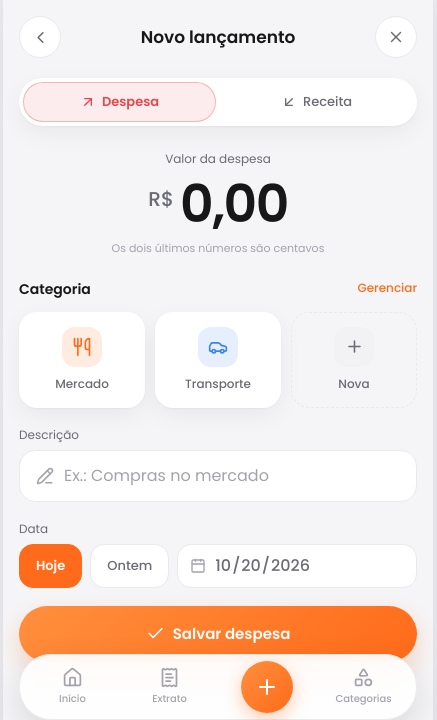
new transaction › keeps the draft and selects the new category after creating one
Type "4590" into the field named "Valor em reais" at x=234, y=204, box [180,174,288,234]
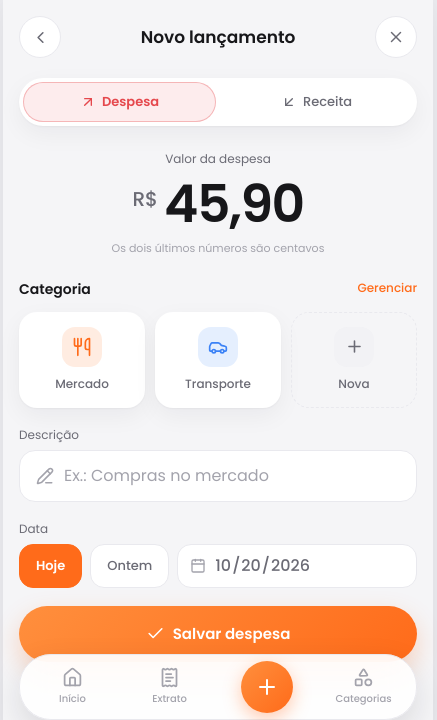
Type "Ração" into the field labelled "Descrição" at x=232, y=476, box [64,463,400,488]
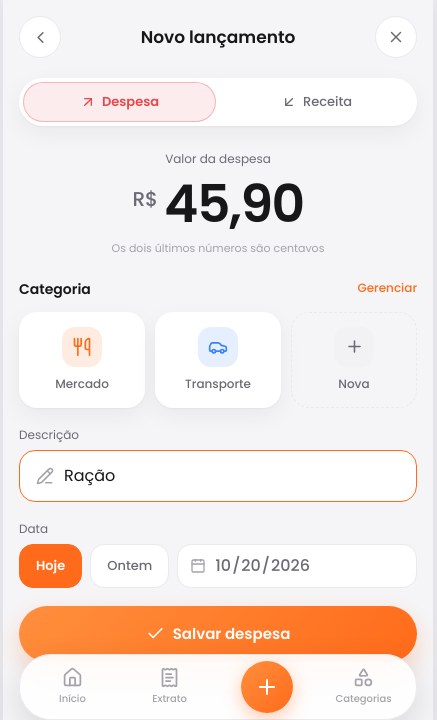
Click the link "Nova" at x=354, y=360, box [291,312,417,408]
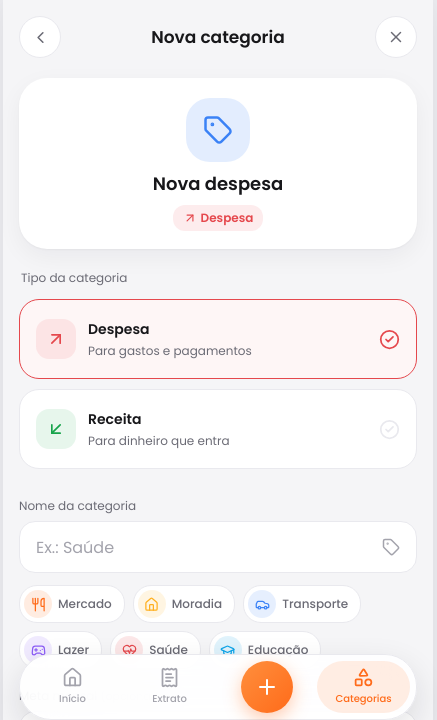
Type "Pets" into the field labelled "Nome da categoria" at x=204, y=547, box [36,534,372,560]
(page scrolled)
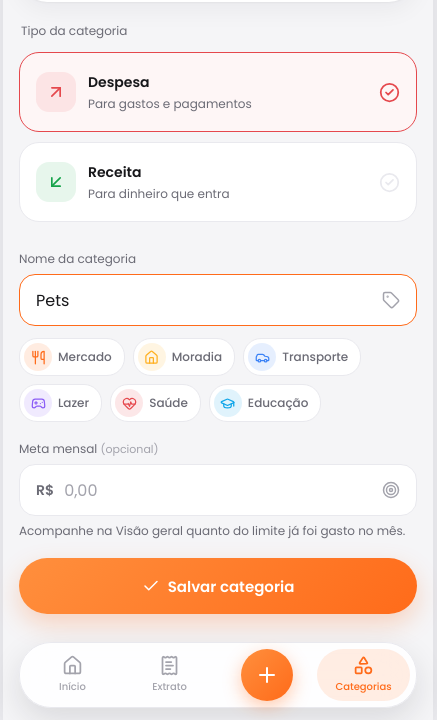
Click the button "Salvar categoria" at x=218, y=586, box [19,558,417,614]
(page scrolled)
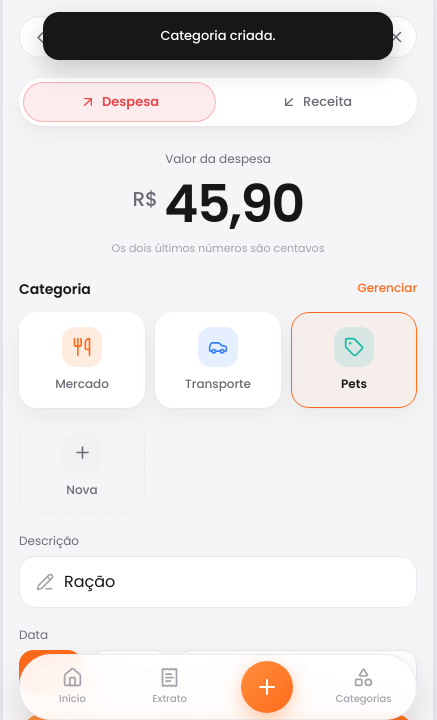
expect the radio button labelled "Pets" is checked: met, box [291,312,417,408]
expect the heading "Novo lançamento" is shown: met, box [141,26,295,48]
expect the field named "Valor em reais" holds "45,90": met, box [164,174,304,234]
